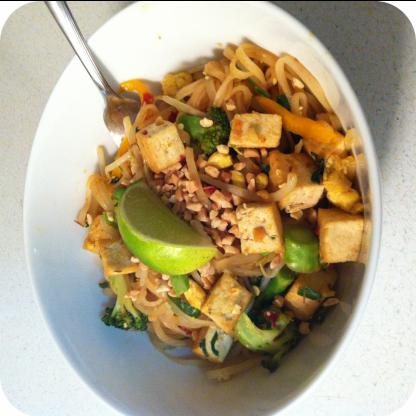Pad Thai: (70, 32, 384, 382)
